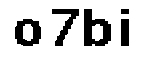7: (48, 5, 82, 49)
b: (82, 8, 114, 48)
i: (117, 9, 138, 50)
o: (12, 17, 43, 48)
